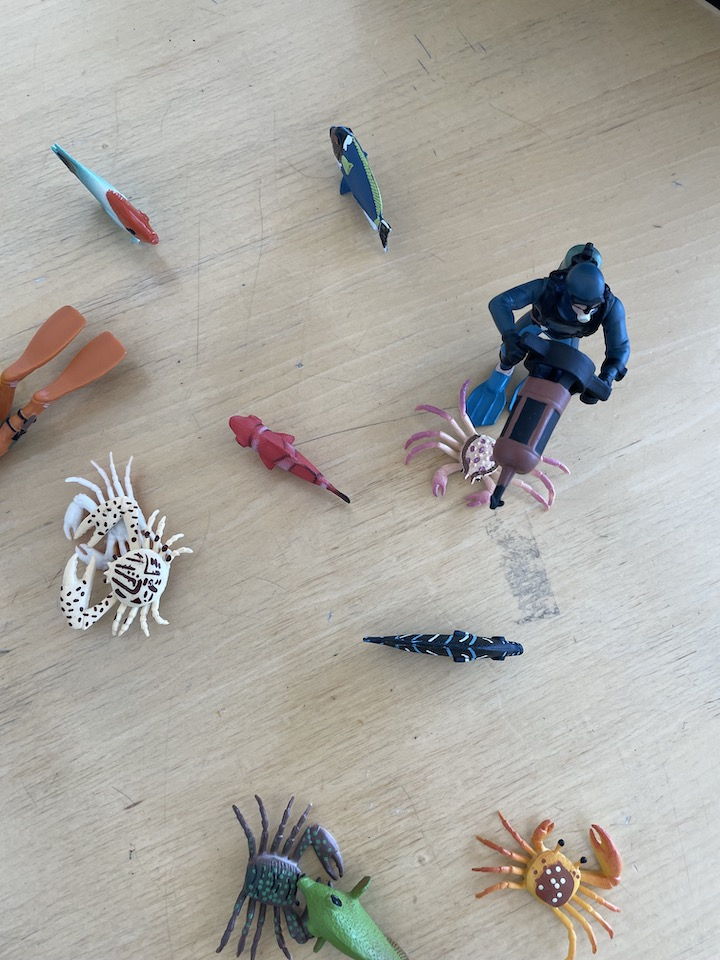crab: (397, 371, 571, 517), (468, 806, 624, 960), (217, 793, 348, 960), (53, 499, 195, 642), (40, 448, 160, 586)
diver: (464, 240, 633, 509), (1, 300, 134, 469)
fish: (47, 142, 168, 250), (223, 413, 356, 511), (325, 120, 397, 251), (359, 627, 528, 667)
